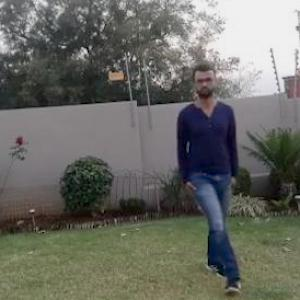follow: (147, 51, 233, 299)
